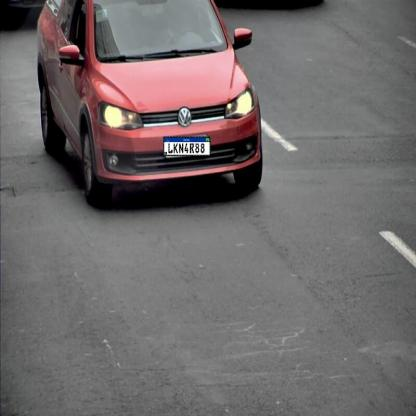PlacaM: (163, 137, 211, 156)
